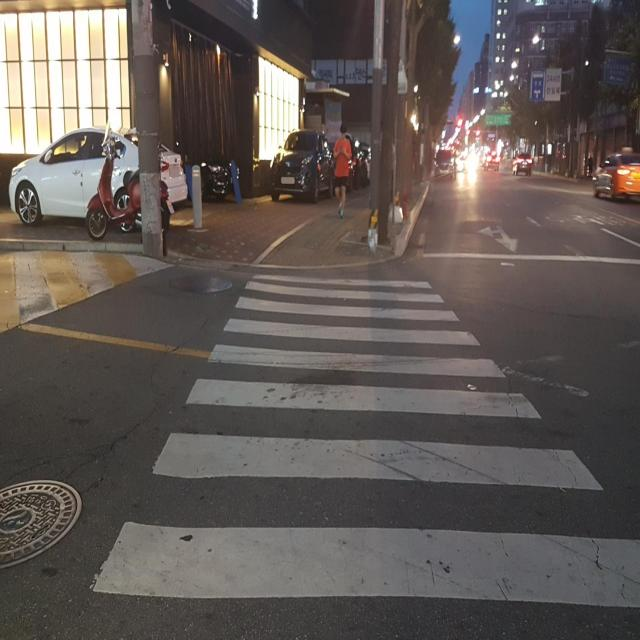횡단보도: (90, 271, 640, 611)
